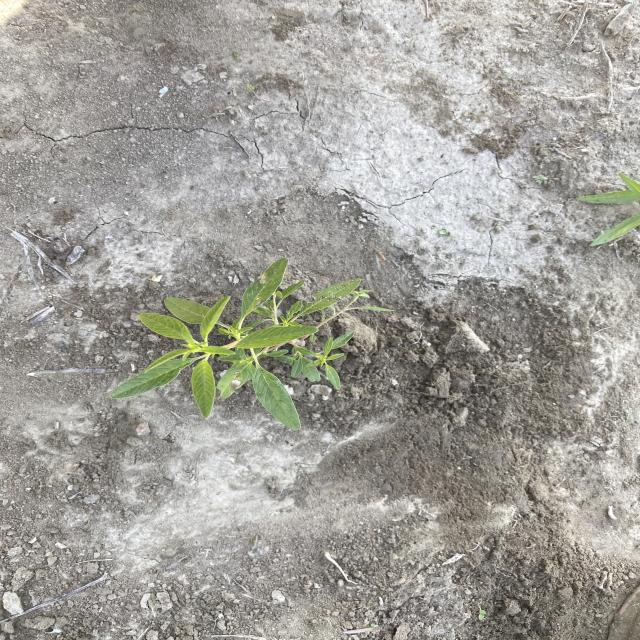Waterhemp: (108, 256, 398, 432)
